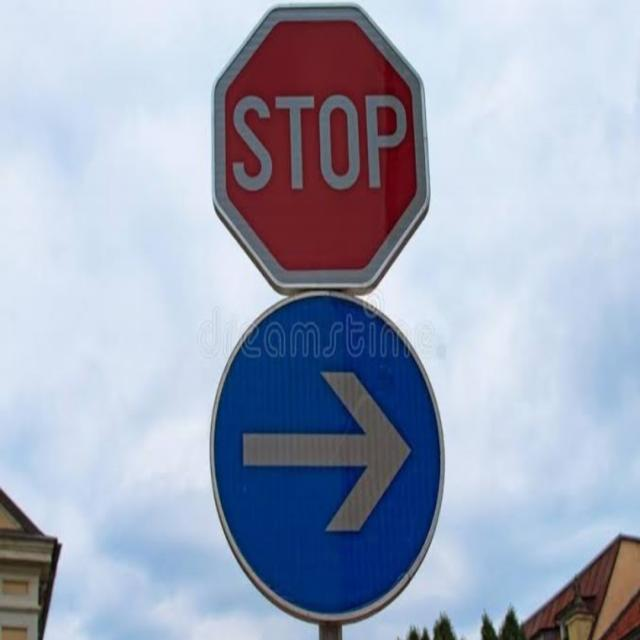Turn Right: (199, 282, 448, 613)
